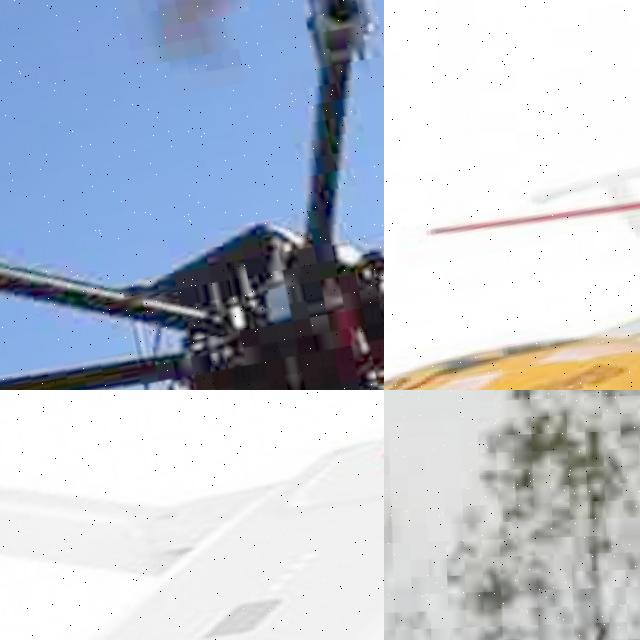drone: (0, 0, 384, 390), (0, 390, 384, 640), (384, 161, 640, 390)
